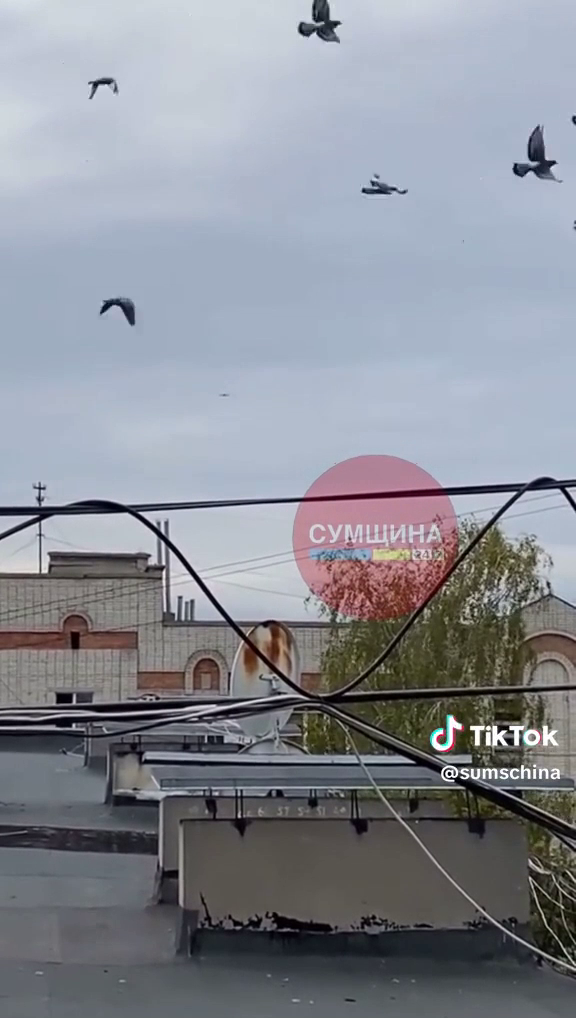not_drone: (510, 121, 566, 188), (296, 0, 347, 46), (360, 170, 411, 200), (96, 294, 140, 328), (86, 72, 120, 106)
